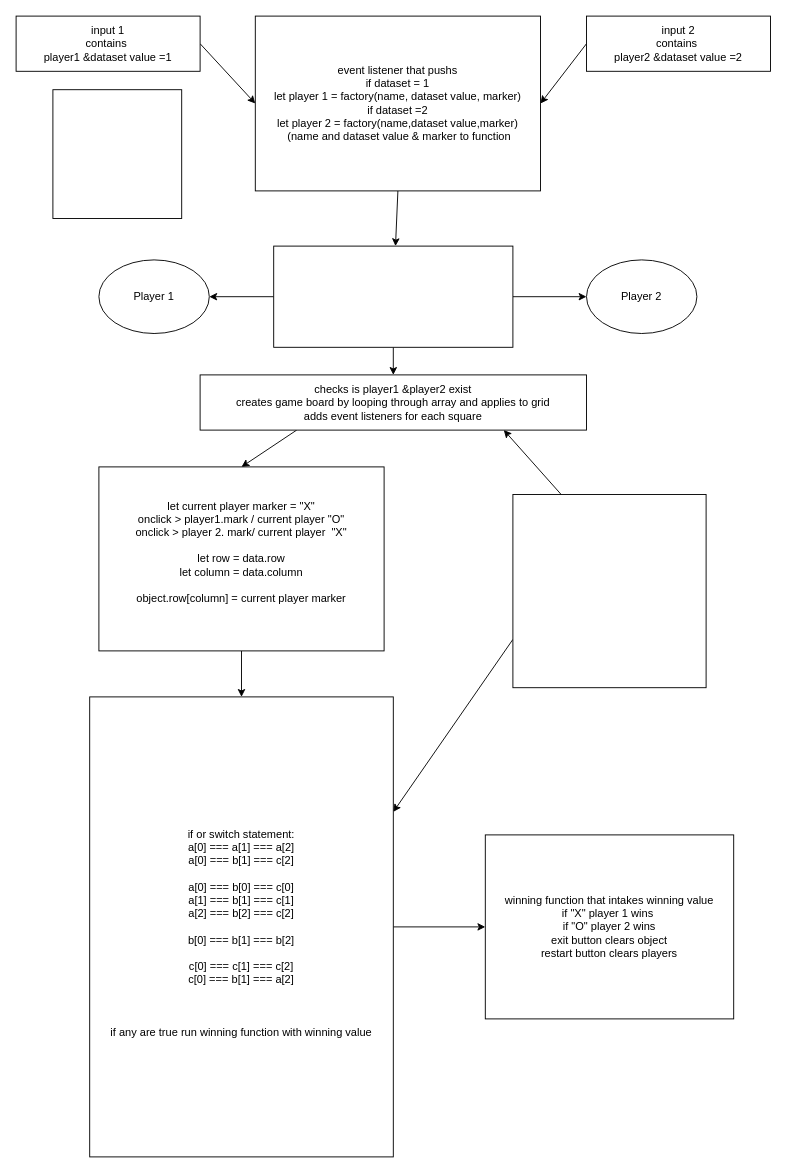
The diagram is 787 pixels wide and 1173 high, and some of its shapes have lost their labels. The shapes that lost their labels are listed below. From the top down, each one's centre as x and y in pixels, then its label:
point (117, 153): let player1; let player 2;
point (393, 296): factory function that creates objects from (name,dataset object, marker)
point (609, 591): let object { a:["o","o","o"] b:["o","o","o"] c:["o","o","o"] } object.a[0] = "x"
